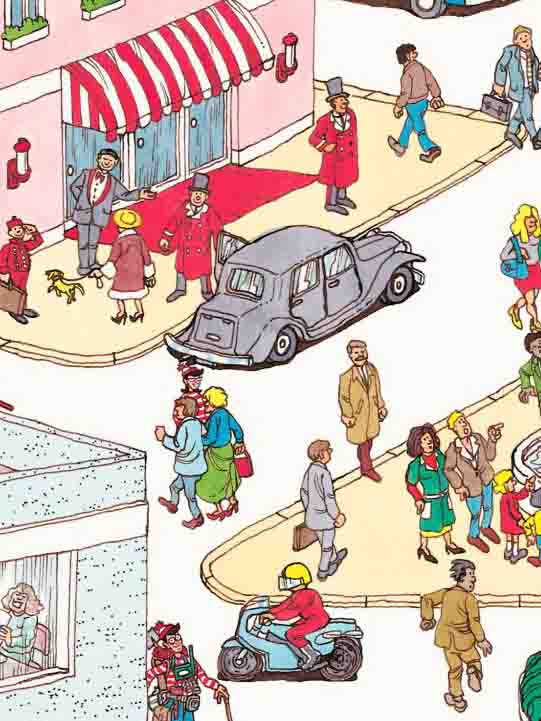waldo: (152, 620, 185, 654)
